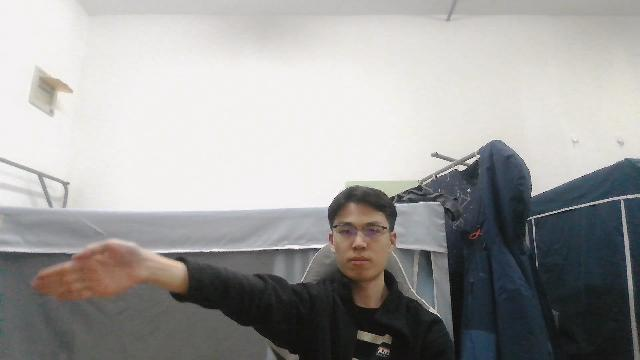five: (29, 237, 147, 300)
